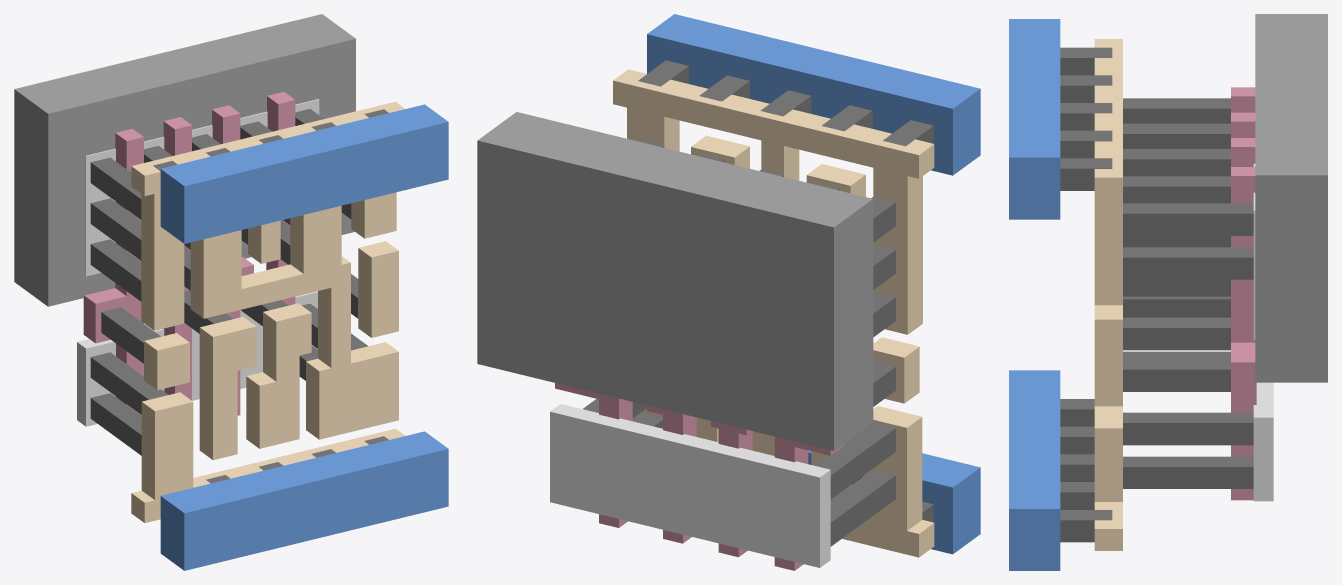
File: sky130_fd_sc_hd__nand4_1.gds.gltf
The picture shows the model from 3 angles, left to right: view 1: azimuth 30°, elevation 25°; view 2: azimuth 150°, elevation 25°; view 3: azimuth 270°, elevation 25°; orthographic projection. The views are drawn at different scales.
Visible parts, largest first — view 1: sky130_fd_sc_hd__nand4_1_li1, sky130_fd_sc_hd__nand4_1_met1, sky130_fd_sc_hd__nand4_1_nwell, sky130_fd_sc_hd__nand4_1_licon, sky130_fd_sc_hd__nand4_1_poly, sky130_fd_sc_hd__nand4_1_diff, sky130_fd_sc_hd__nand4_1_mcon; view 2: sky130_fd_sc_hd__nand4_1_nwell, sky130_fd_sc_hd__nand4_1_li1, sky130_fd_sc_hd__nand4_1_diff, sky130_fd_sc_hd__nand4_1_met1, sky130_fd_sc_hd__nand4_1_licon, sky130_fd_sc_hd__nand4_1_poly, sky130_fd_sc_hd__nand4_1_mcon; view 3: sky130_fd_sc_hd__nand4_1_licon, sky130_fd_sc_hd__nand4_1_nwell, sky130_fd_sc_hd__nand4_1_met1, sky130_fd_sc_hd__nand4_1_li1, sky130_fd_sc_hd__nand4_1_mcon, sky130_fd_sc_hd__nand4_1_poly, sky130_fd_sc_hd__nand4_1_diff.
Part boxes in pixels (bbox=[...]): sky130_fd_sc_hd__nand4_1_li1: bbox=[131, 101, 404, 522]; sky130_fd_sc_hd__nand4_1_met1: bbox=[160, 104, 448, 570]; sky130_fd_sc_hd__nand4_1_nwell: bbox=[14, 14, 355, 306]; sky130_fd_sc_hd__nand4_1_licon: bbox=[90, 109, 368, 455]; sky130_fd_sc_hd__nand4_1_poly: bbox=[83, 92, 295, 415]; sky130_fd_sc_hd__nand4_1_diff: bbox=[77, 99, 319, 426]; sky130_fd_sc_hd__nand4_1_mcon: bbox=[153, 109, 388, 483]; sky130_fd_sc_hd__nand4_1_nwell: bbox=[477, 112, 873, 450]; sky130_fd_sc_hd__nand4_1_li1: bbox=[613, 69, 934, 557]; sky130_fd_sc_hd__nand4_1_diff: bbox=[550, 404, 830, 567]; sky130_fd_sc_hd__nand4_1_met1: bbox=[647, 14, 980, 554]; sky130_fd_sc_hd__nand4_1_licon: bbox=[583, 140, 895, 546]; sky130_fd_sc_hd__nand4_1_poly: bbox=[555, 383, 844, 570]; sky130_fd_sc_hd__nand4_1_mcon: bbox=[638, 60, 933, 522]; sky130_fd_sc_hd__nand4_1_licon: bbox=[1123, 98, 1253, 488]; sky130_fd_sc_hd__nand4_1_nwell: bbox=[1255, 14, 1327, 382]; sky130_fd_sc_hd__nand4_1_met1: bbox=[1009, 19, 1060, 570]; sky130_fd_sc_hd__nand4_1_li1: bbox=[1094, 39, 1122, 550]; sky130_fd_sc_hd__nand4_1_mcon: bbox=[1060, 47, 1112, 542]; sky130_fd_sc_hd__nand4_1_poly: bbox=[1231, 87, 1256, 500]; sky130_fd_sc_hd__nand4_1_diff: bbox=[1253, 163, 1273, 501].
Bounding box in the file's own units: 2.68 × 3.2 × 2.24.
